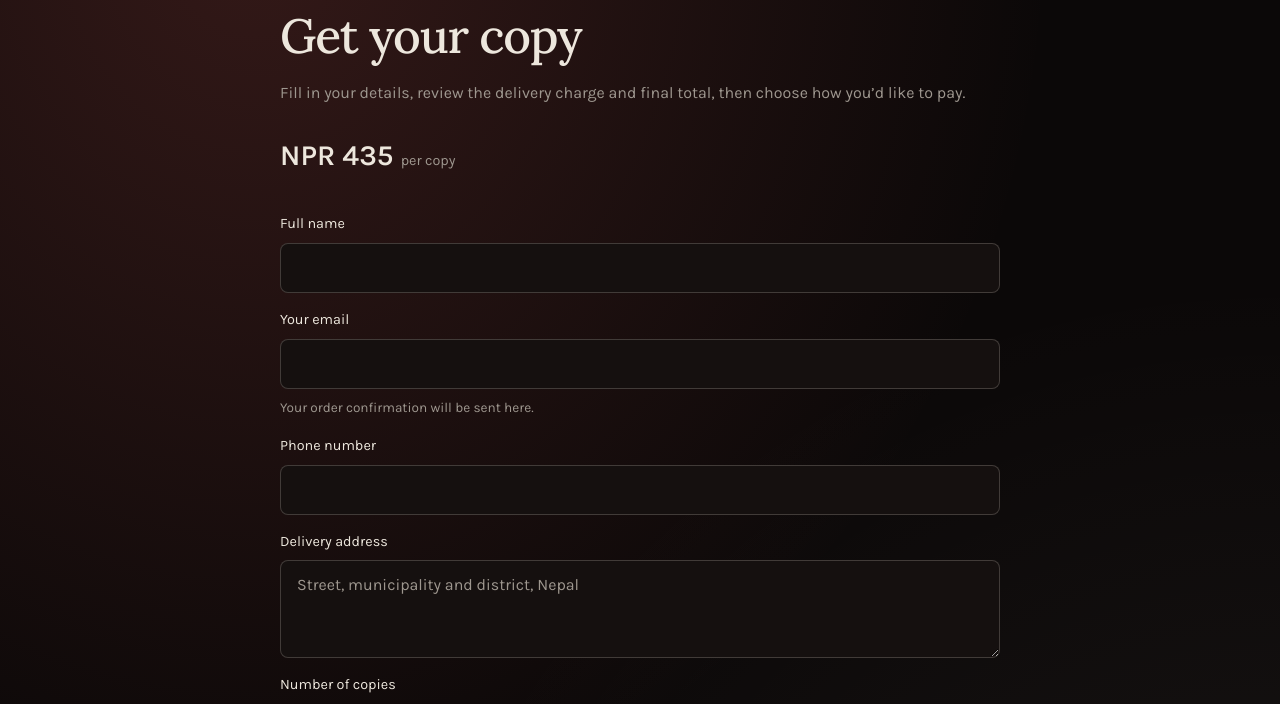
Test: a conflicting retry acknowledges the saved order instead of placing another one
Type "Sample Reader" into the field labelled "Full name" at (640, 268), box [280,243,1000,293]
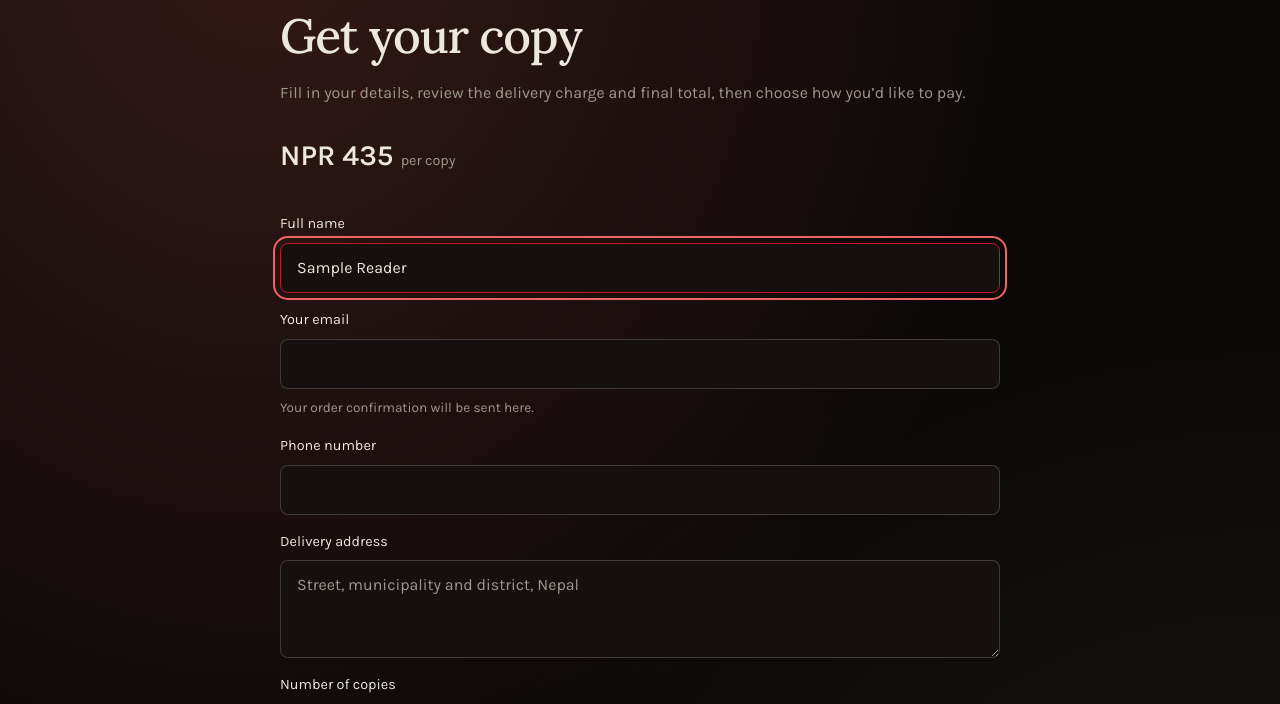
Type "reader@example.test" into the field labelled "Your email" at (640, 364), box [280,339,1000,389]
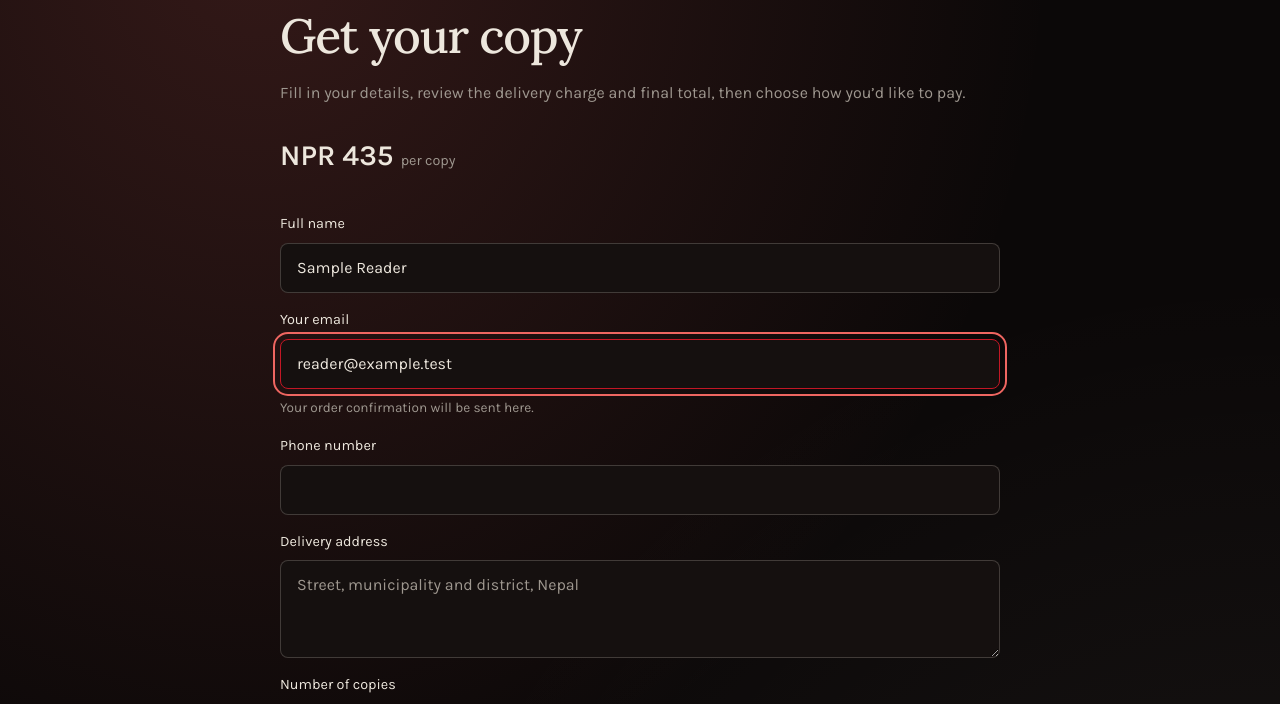
Type "+977 9800000000" into the field labelled "Phone number" at (640, 490), box [280,465,1000,515]
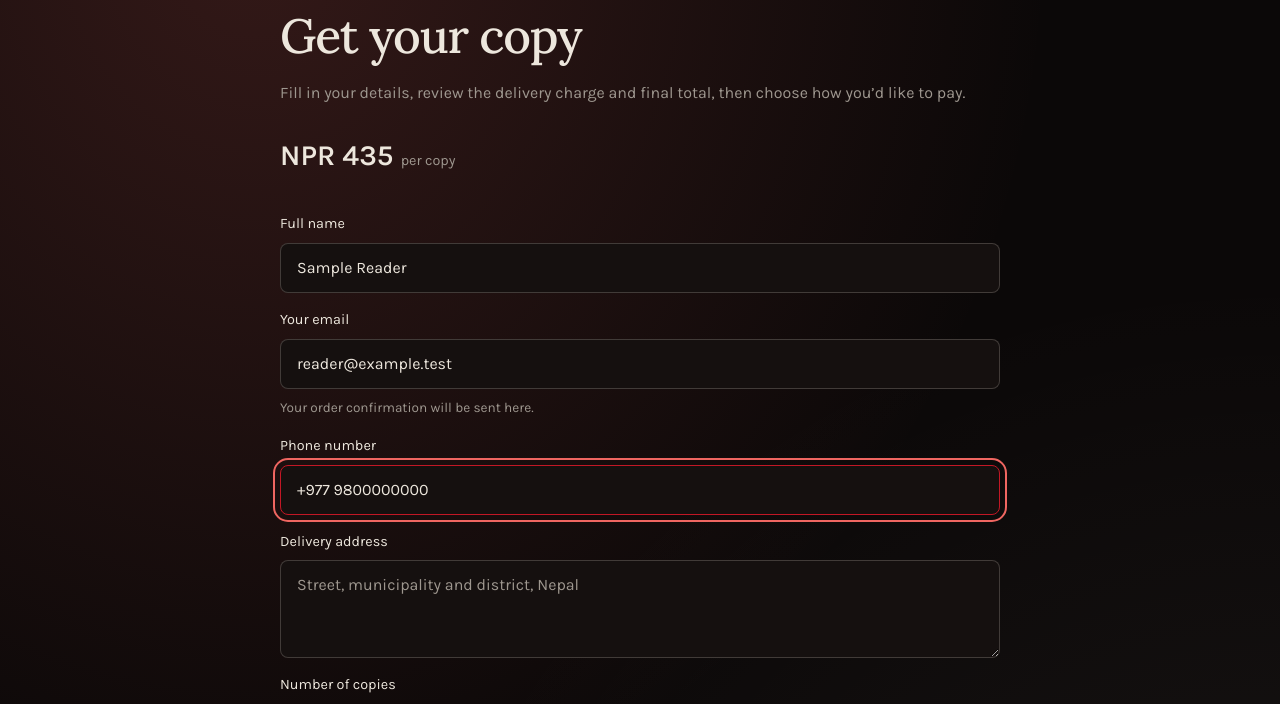
Type "Sample address, Jhapa, Nepal" into the text box labelled "Delivery address" at (640, 609), box [280,560,1000,658]
(page scrolled)
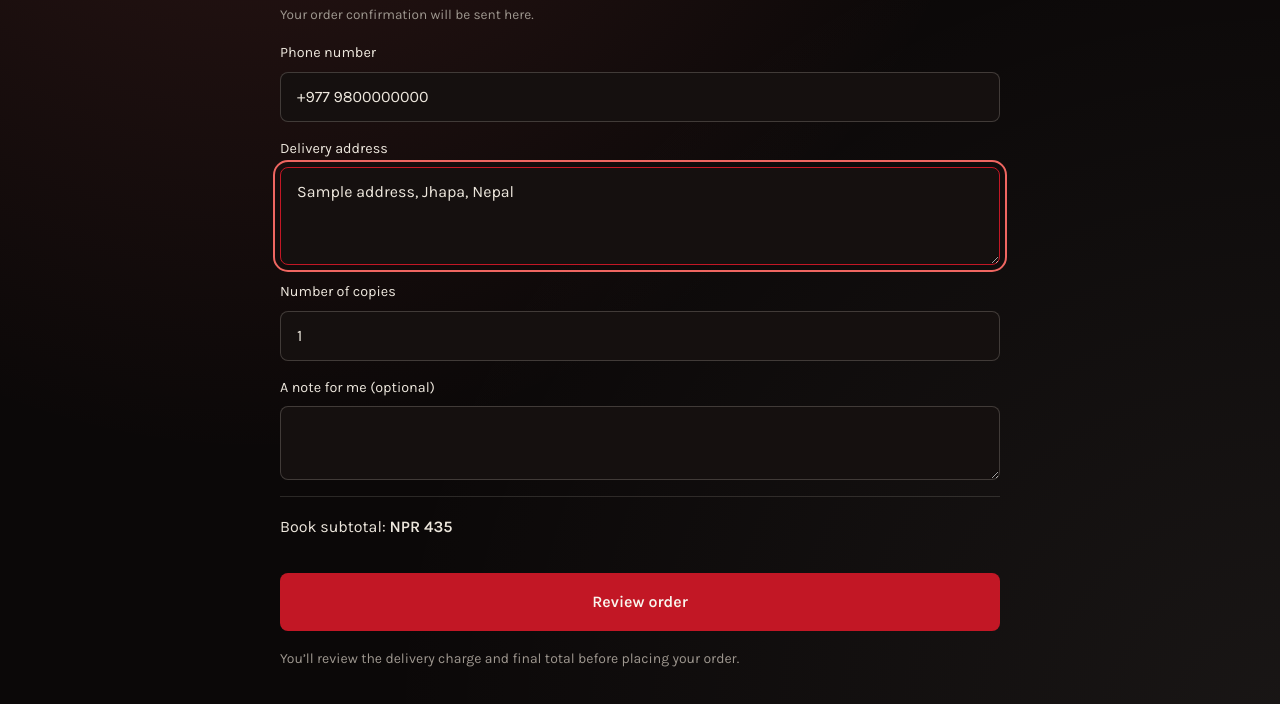
Click the button "Review order" at (640, 602), box [280,574,1000,632]
(page scrolled)
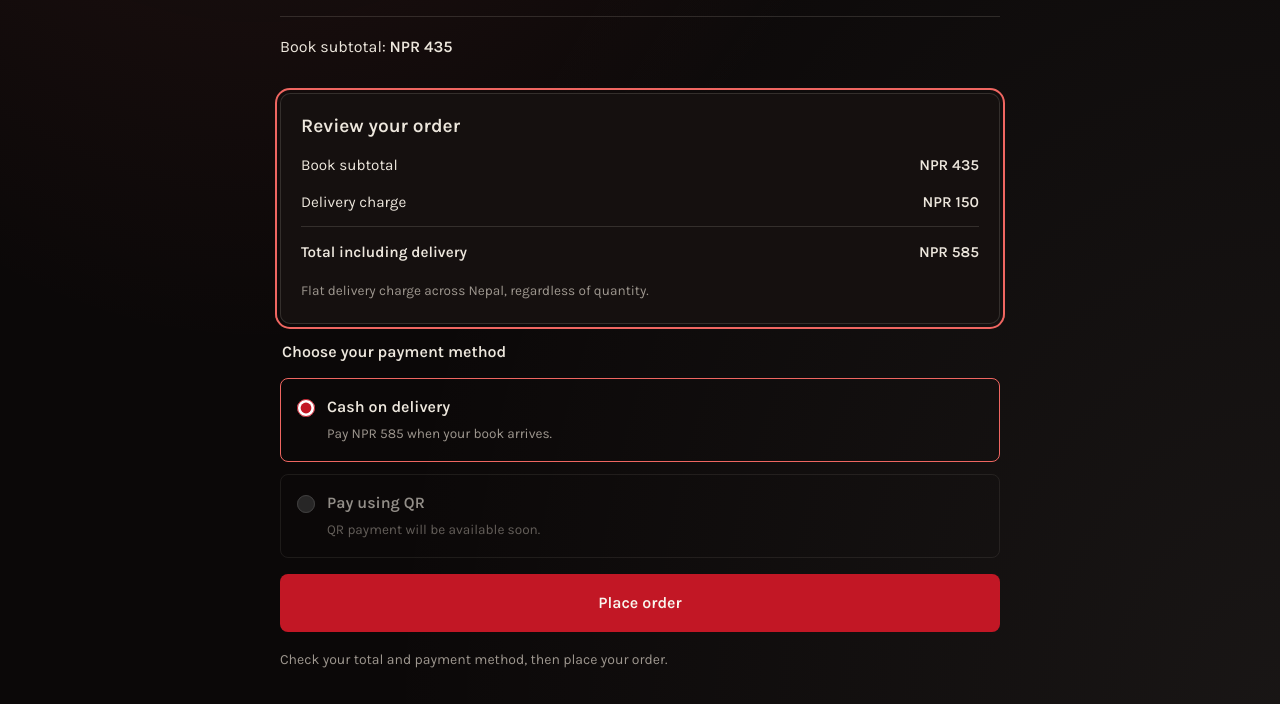
Click the button "Place order" at (640, 602), box [280,574,1000,632]
(page scrolled)
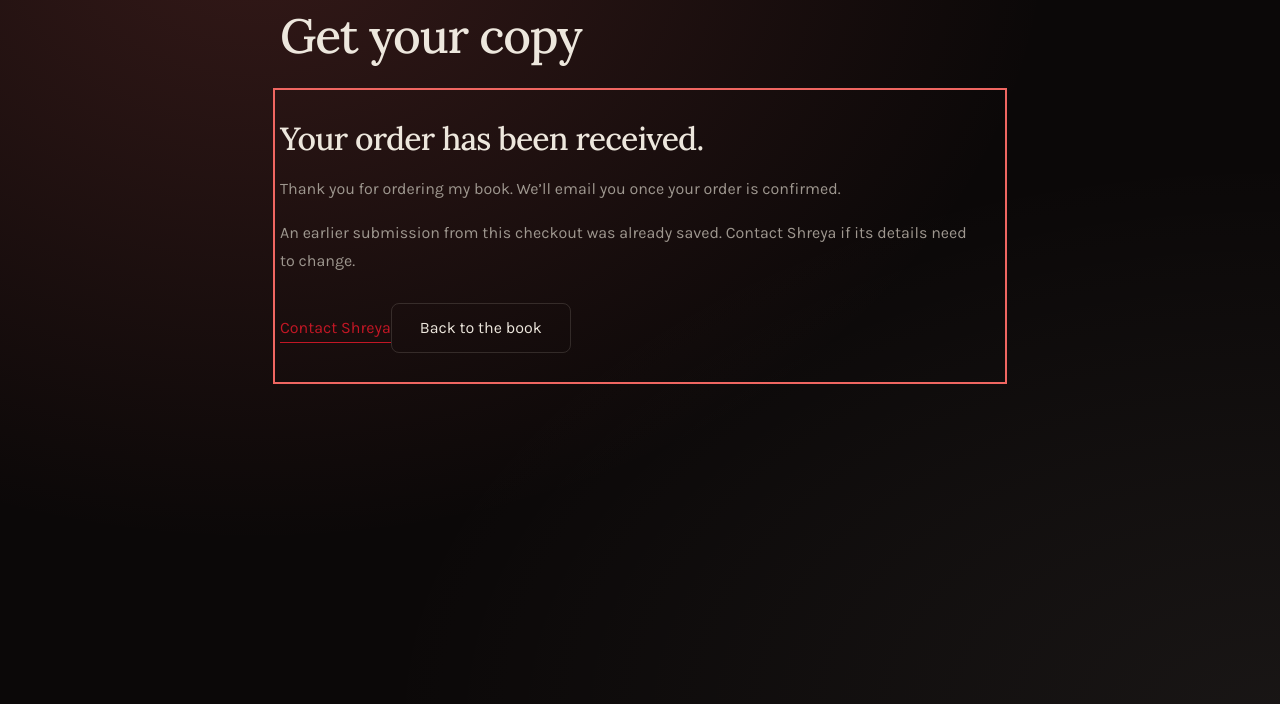
Check: the heading "Your order has been received." is shown, box [280,118,703,159]
Check: the text "An earlier submission from this checkout was already saved" is shown, box [280,223,967,270]
Check: the button "Place order" is gone
